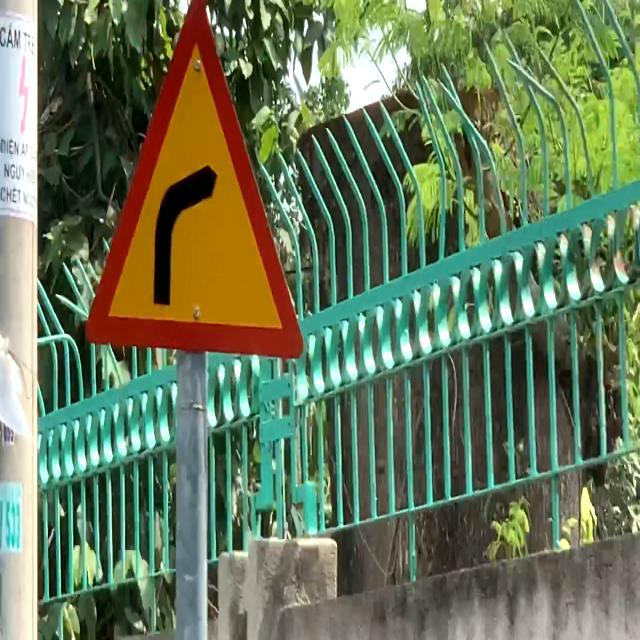cho ngoat nguy hiem vong ben phai: (74, 0, 308, 368)
